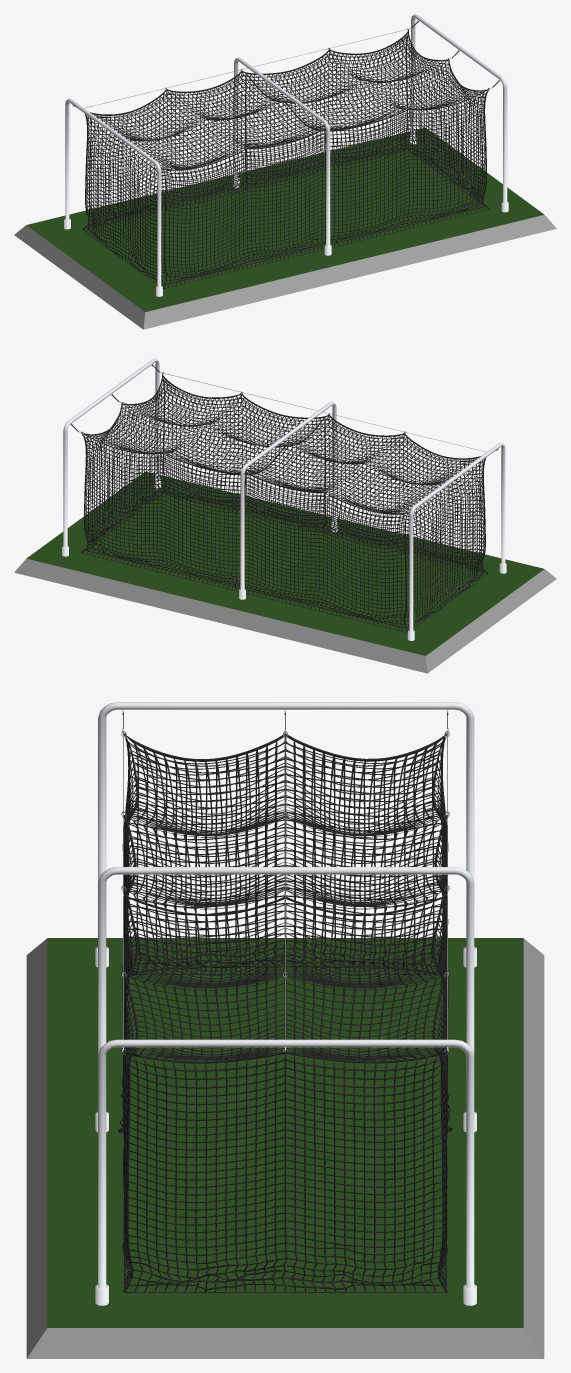
The model's file is Outdoor Varsity 35.glb.
3 renders of one model, top to bottom at view 1: azimuth 30°, elevation 25°; view 2: azimuth 150°, elevation 25°; view 3: azimuth 270°, elevation 25°, orthographic. The views are drawn at different scales.
Visible parts, largest first — view 1: Cube.007, Playground.002, Frame.002, Ropes.002; view 2: Cube.007, Playground.002, Frame.002, Ropes.002; view 3: Playground.002, Cube.007, Frame.002, Ropes.002.
Part boxes in pixels (box(x1,y1,x2,y2)): Cube.007: box(82, 30, 489, 288); Playground.002: box(14, 127, 556, 329); Frame.002: box(64, 14, 508, 296); Ropes.002: box(72, 20, 500, 169); Cube.007: box(81, 374, 488, 632); Playground.002: box(14, 471, 556, 673); Frame.002: box(62, 358, 506, 640); Ropes.002: box(70, 364, 498, 513); Playground.002: box(26, 938, 544, 1358); Cube.007: box(118, 733, 452, 1292); Frame.002: box(95, 702, 476, 1305); Ropes.002: box(121, 709, 449, 1054).
Size of the model in its own units: 13.21 by 4.38 by 7.16.
